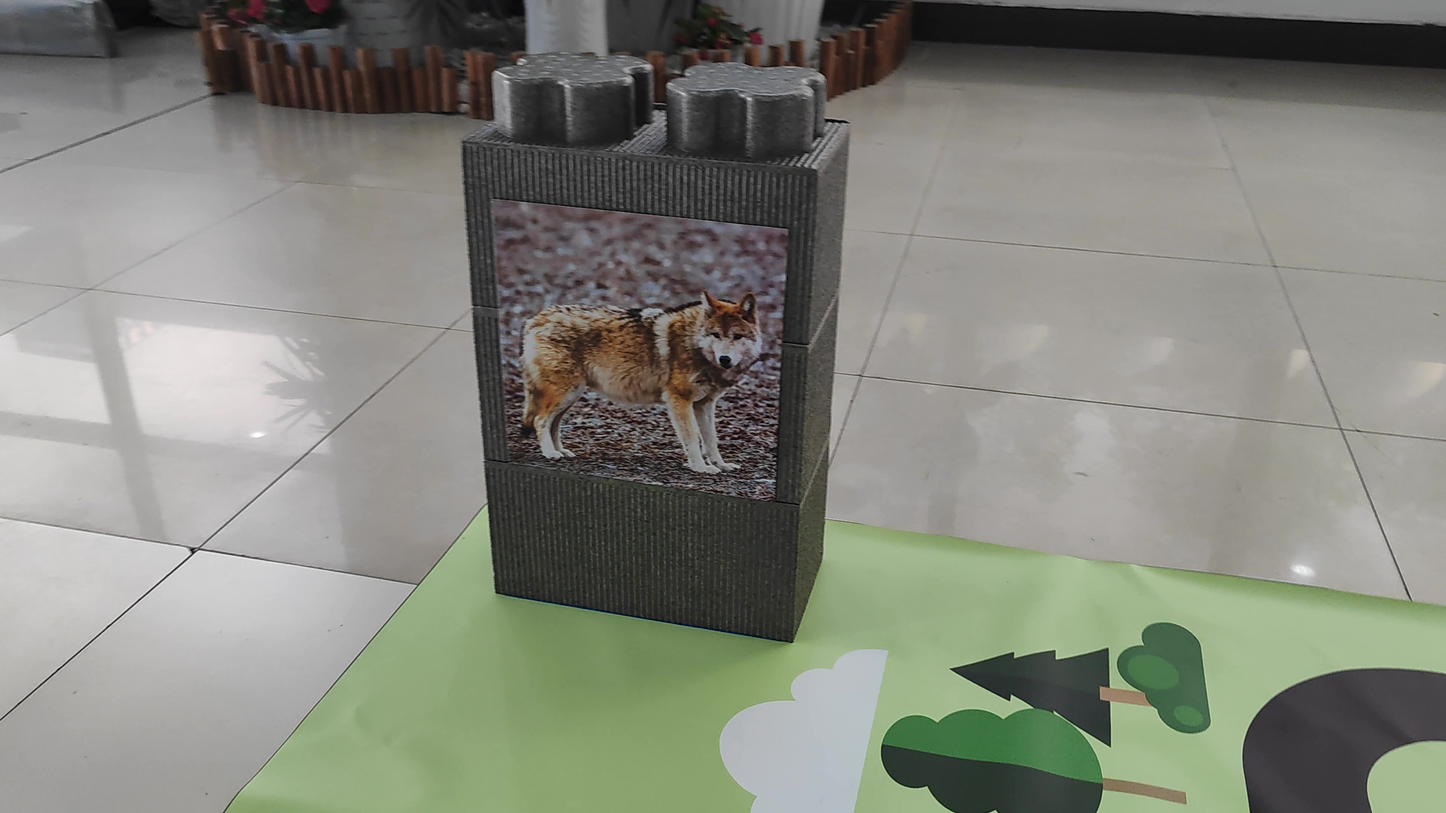wolf: (509, 273, 778, 521)
